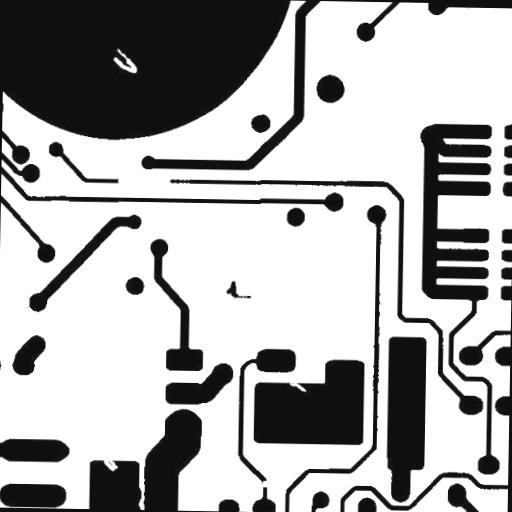copper: (218, 272, 259, 306)
mousebite: (96, 446, 126, 479), (282, 372, 314, 399)
open: (110, 168, 177, 194)
pin-hole: (106, 40, 144, 80)
